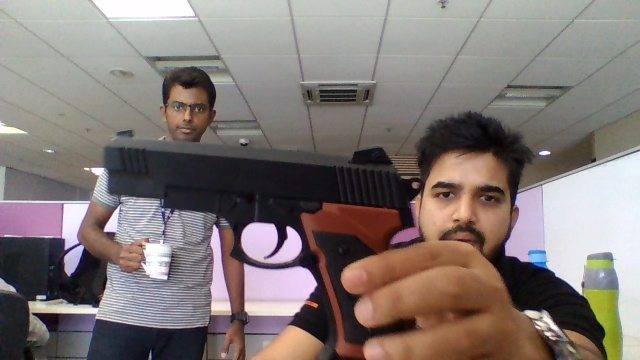gun: (100, 127, 415, 242)
